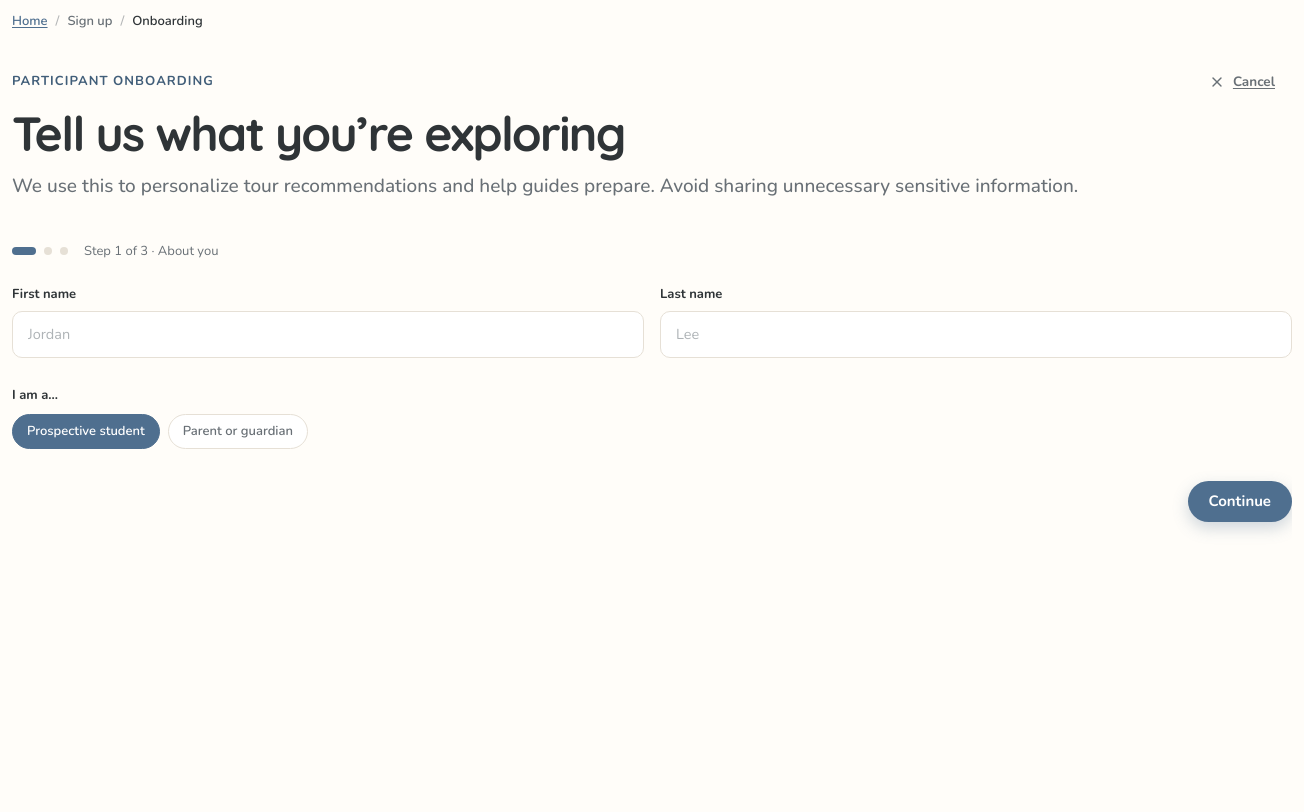
Test: ParticipantOnboardingForm (wizard) › blocks Continue until first and last name are filled (required)
What coordinates should you click on to do the following:
click the button "Continue"
I would click on:
 (1240, 502)
Its box is 1188,482 -> 1292,522.
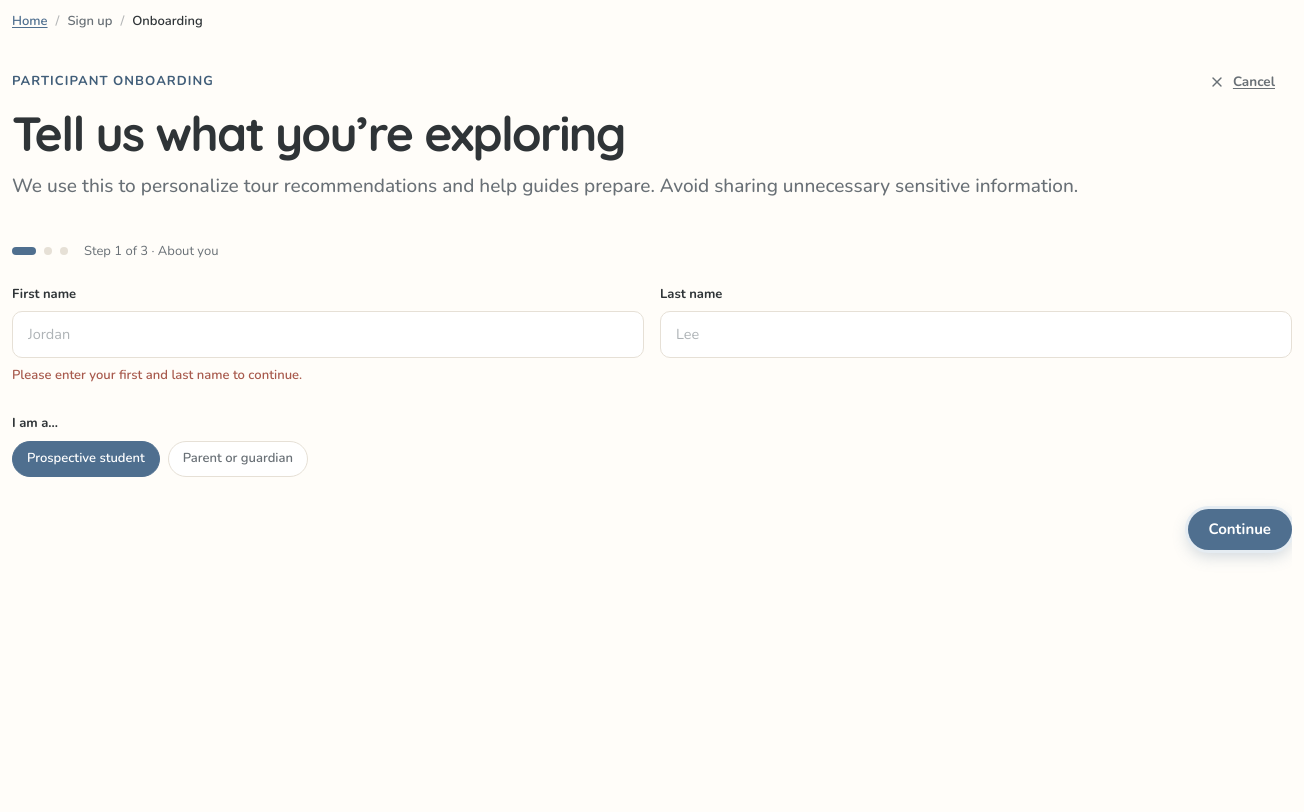
Expected: the text "Please enter your first and last name to continue." is shown, 12,366 -> 302,384
